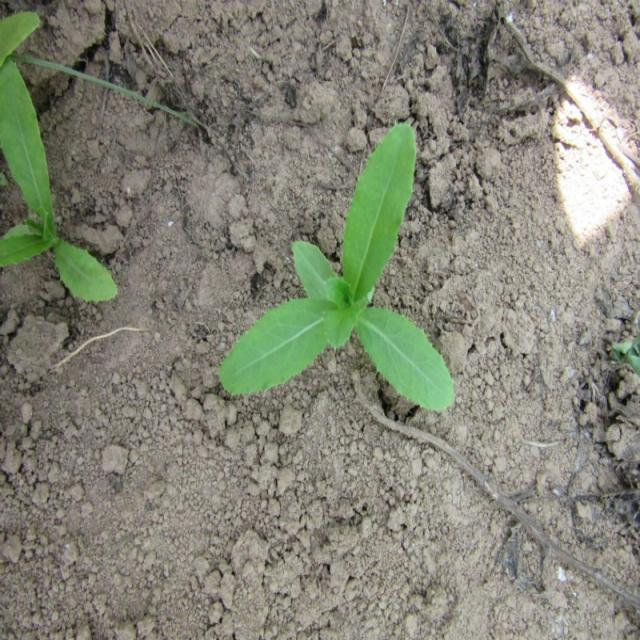field_thistle: (198, 122, 460, 428)
